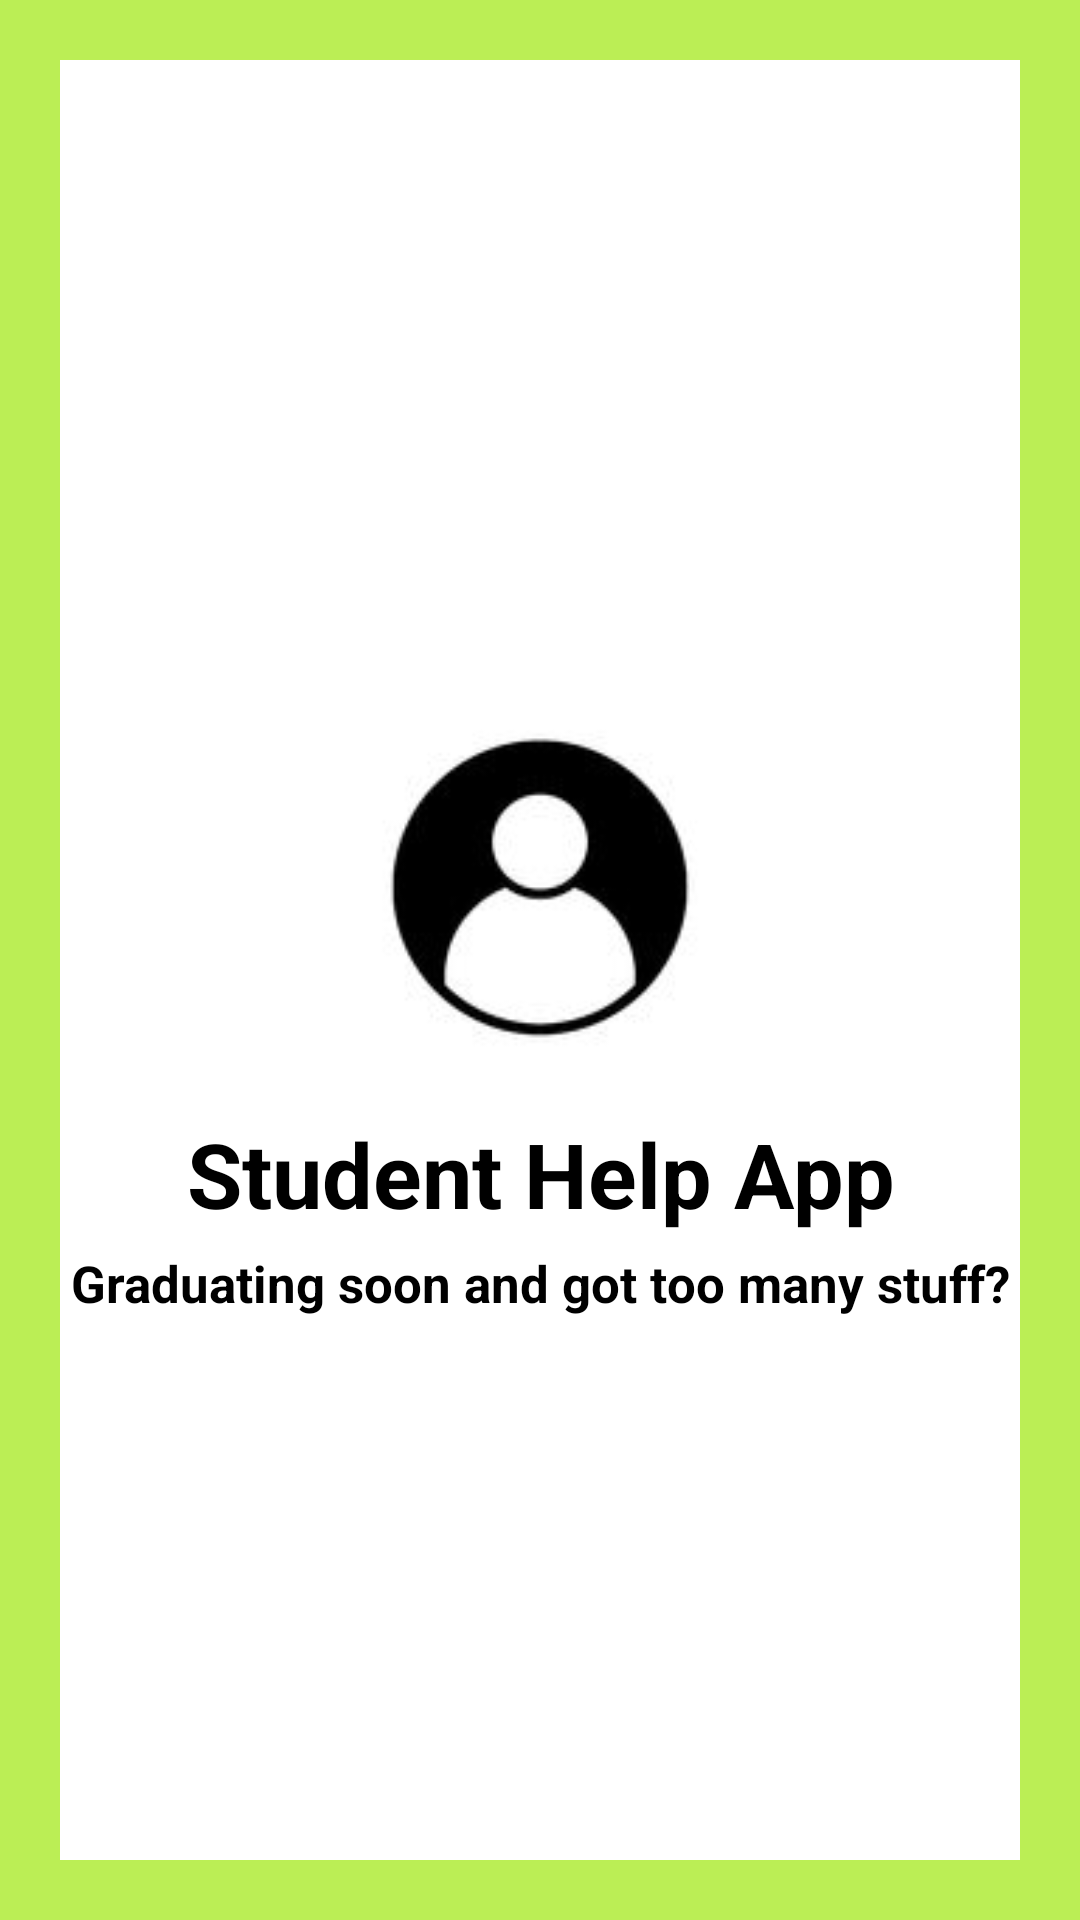

Icon bounding boxes for this 1080 × 1920 phone screenshot, format {"x1": x1, "y1": y1, "x2": x2, "y2": y2}:
profile: {"x1": 391, "y1": 738, "x2": 689, "y2": 1037}
